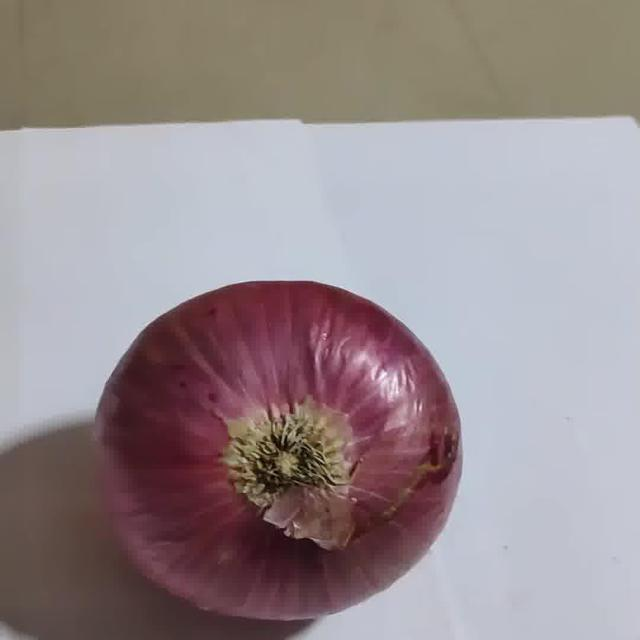Onion: (95, 281, 460, 620)
